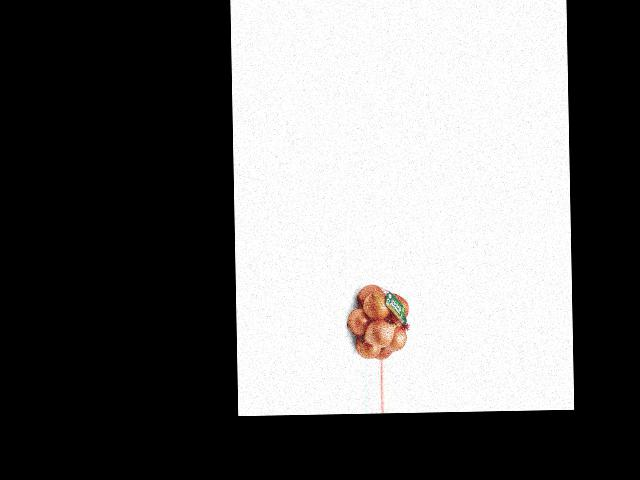onion: (356, 282, 381, 308)
